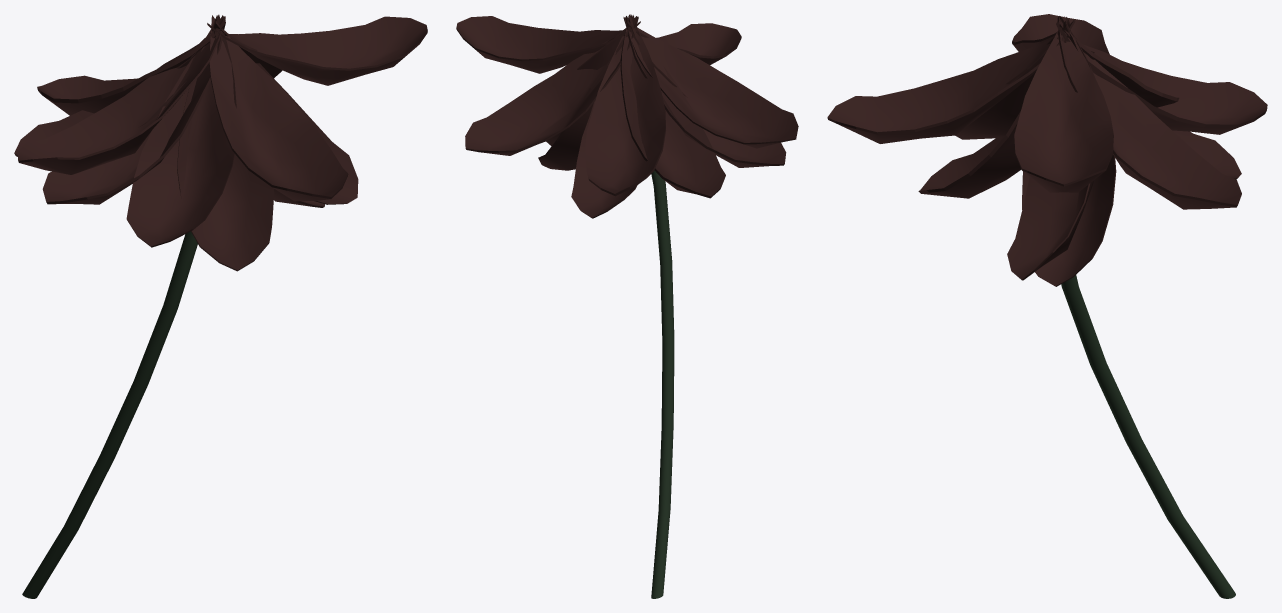
File: K_rengesou.fbx
3 views of the same model, side by side, from view 1: azimuth 30°, elevation 25°; view 2: azimuth 150°, elevation 25°; view 3: azimuth 270°, elevation 25° (orthographic). The views are drawn at different scales.
Parts seen in each view (by area): view 1: pPlane3, pPlane4, pPlane12, pPlane9, pPlane11, Cosmos:kuki, pPlane5, pPlane7, pPlane10, pPlane6; view 2: pPlane12, pPlane7, pPlane8, pPlane9, Cosmos:kuki, pPlane6, pPlane3, pPlane5, pPlane13, pPlane14, pPlane10; view 3: pPlane9, pPlane3, pPlane8, pPlane7, Cosmos:kuki, pPlane10, pPlane14, pPlane11, pPlane4, pPlane12, pPlane13, pPlane6.
Part boxes in pixels (bbox=[...]): pPlane3: bbox=[209, 15, 348, 201]; pPlane4: bbox=[126, 14, 236, 247]; pPlane12: bbox=[17, 16, 225, 174]; pPlane9: bbox=[207, 16, 427, 85]; pPlane11: bbox=[177, 15, 274, 271]; Cosmos:kuki: bbox=[22, 231, 197, 598]; pPlane5: bbox=[42, 15, 223, 204]; pPlane7: bbox=[37, 19, 225, 115]; pPlane10: bbox=[213, 19, 358, 204]; pPlane6: bbox=[14, 17, 225, 156]; pPlane12: bbox=[623, 17, 798, 148]; pPlane7: bbox=[585, 28, 665, 196]; pPlane8: bbox=[465, 16, 638, 155]; pPlane9: bbox=[456, 16, 640, 73]; Cosmos:kuki: bbox=[651, 170, 674, 598]; pPlane6: bbox=[620, 14, 725, 198]; pPlane3: bbox=[627, 21, 741, 64]; pPlane5: bbox=[625, 16, 786, 167]; pPlane13: bbox=[571, 14, 640, 218]; pPlane14: bbox=[538, 15, 634, 170]; pPlane10: bbox=[546, 16, 637, 145]; pPlane9: bbox=[1014, 16, 1113, 192]; pPlane3: bbox=[827, 19, 1075, 143]; pPlane8: bbox=[1057, 16, 1241, 209]; pPlane7: bbox=[1056, 21, 1267, 134]; Cosmos:kuki: bbox=[1061, 275, 1235, 598]; pPlane10: bbox=[1007, 16, 1093, 280]; pPlane14: bbox=[1022, 17, 1116, 286]; pPlane11: bbox=[918, 17, 1068, 198]; pPlane4: bbox=[955, 19, 1070, 139]; pPlane12: bbox=[1012, 14, 1109, 54]; pPlane13: bbox=[1059, 19, 1241, 179]; pPlane6: bbox=[1059, 20, 1179, 107].
Bounding box in the file's own units: 35.83 × 51.52 × 32.39.
